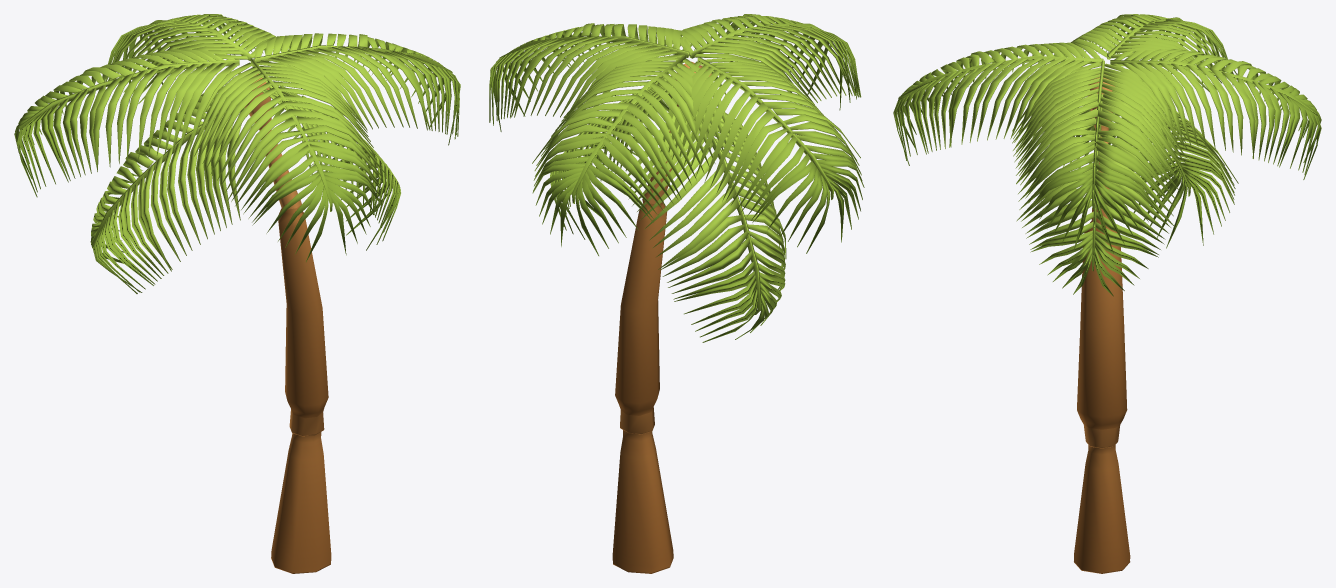
Rendered from PAMIE_TREE.fbx.
3 renders of one model, left to right at view 1: azimuth 30°, elevation 25°; view 2: azimuth 150°, elevation 25°; view 3: azimuth 270°, elevation 25°, orthographic. The views are drawn at different scales.
Parts seen in each view (by area): view 1: PALMIE TREE; view 2: PALMIE TREE; view 3: PALMIE TREE.
Boxes of the visible parts, x1,y1,x2,y2 form: PALMIE TREE: [14, 14, 460, 573]; PALMIE TREE: [489, 14, 864, 573]; PALMIE TREE: [893, 14, 1321, 573].
Bounding box in the file's own units: 706 × 885 × 715.
